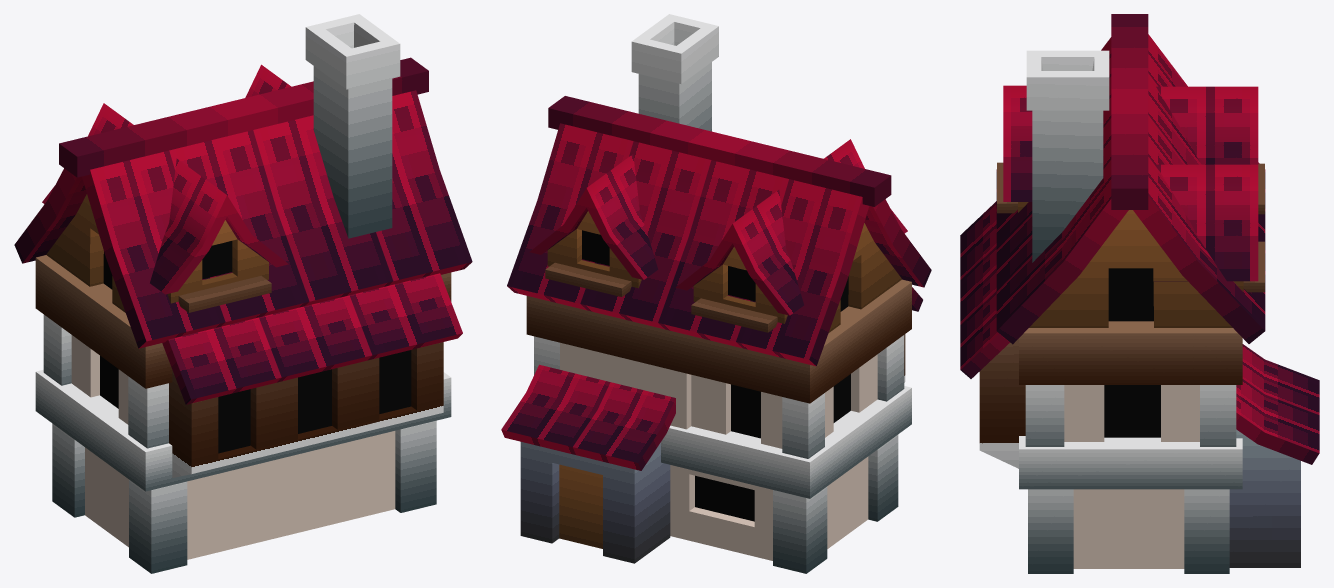
File: house_lvl7.fbx
3 views of the same model, side by side, from view 1: azimuth 30°, elevation 25°; view 2: azimuth 150°, elevation 25°; view 3: azimuth 270°, elevation 25° (orthographic). The views are drawn at different scales.
Parts seen in each view (by area): view 1: house_lvl7; view 2: house_lvl7; view 3: house_lvl7.
Part boxes in pixels (bbox=[...]): house_lvl7: bbox=[14, 14, 472, 573]; house_lvl7: bbox=[501, 14, 931, 573]; house_lvl7: bbox=[960, 14, 1319, 573].
Bounding box in the file's own units: 1397 × 1784 × 1214.
